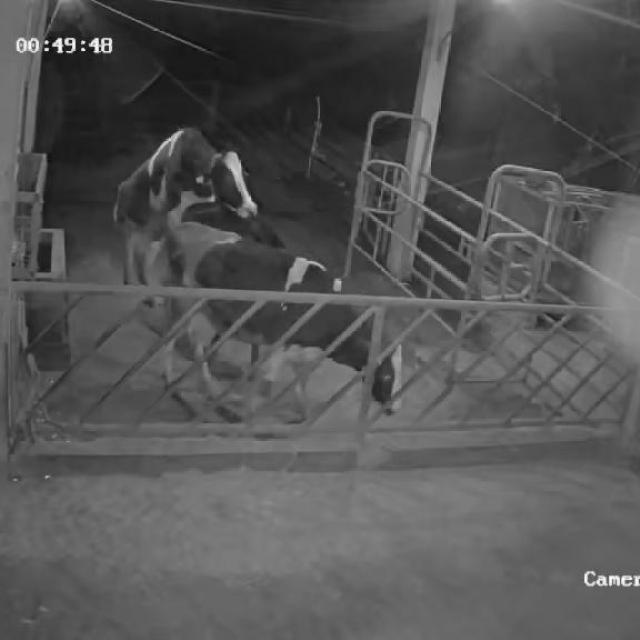standing: (159, 222, 402, 419), (183, 202, 288, 270)
